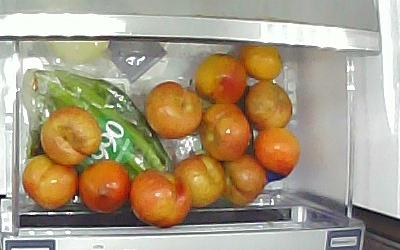prune: (40, 106, 102, 165), (131, 169, 193, 228), (144, 80, 203, 139), (198, 104, 251, 161), (23, 155, 78, 209), (175, 153, 227, 208), (78, 160, 130, 214), (196, 53, 247, 104), (221, 154, 267, 206), (253, 128, 301, 177), (247, 80, 293, 129), (239, 46, 284, 79)
